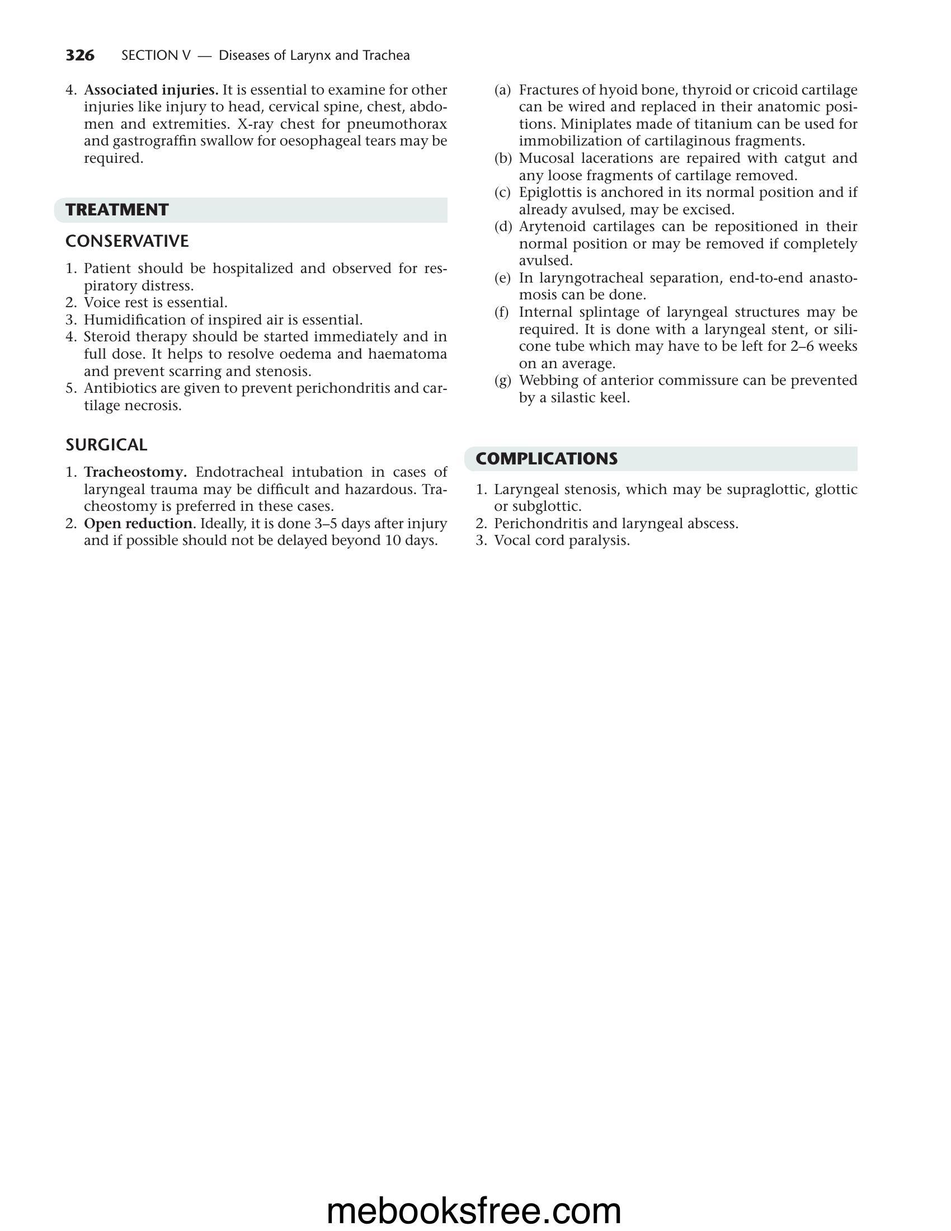header: (121, 48, 410, 65)
list: (494, 80, 859, 408), (64, 260, 449, 415), (64, 82, 449, 169), (64, 464, 450, 550), (474, 482, 860, 550)
section-heading: (474, 451, 619, 465), (64, 202, 170, 217)
sub-section-heading: (64, 232, 190, 249), (65, 436, 149, 452)
